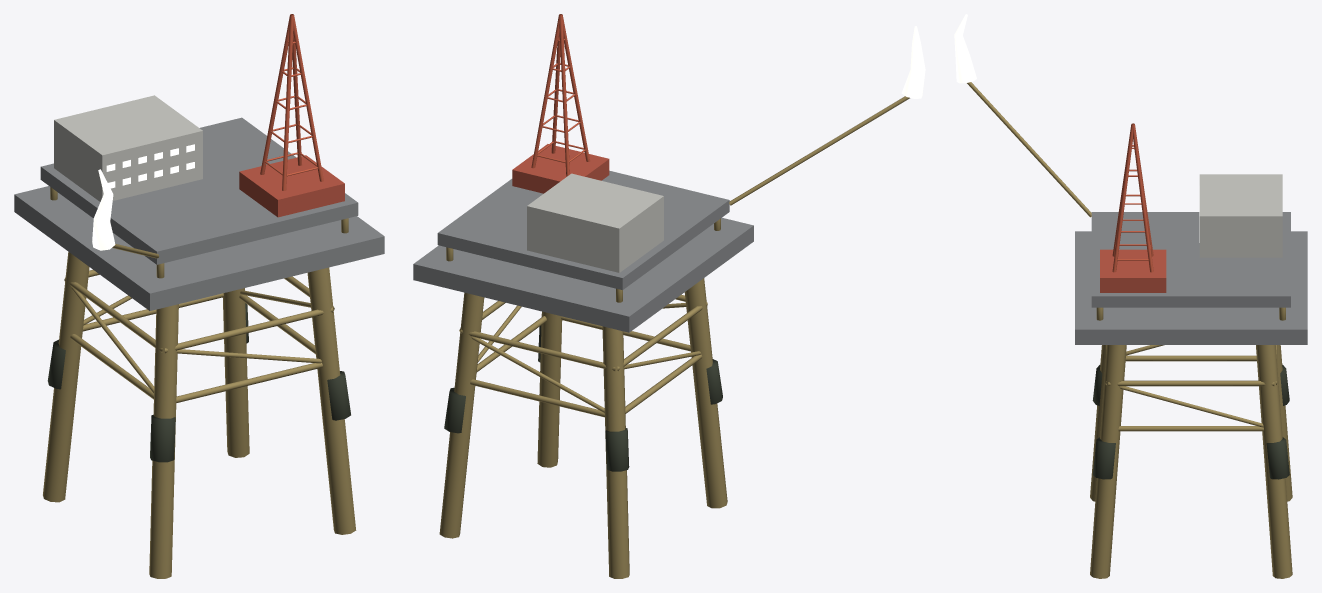
Rendered from rig.glb.
The picture shows the model from 3 angles, left to right: view 1: azimuth 30°, elevation 25°; view 2: azimuth 150°, elevation 25°; view 3: azimuth 270°, elevation 25°; orthographic projection. The views are drawn at different scales.
Parts seen in each view (by area): view 1: Rig; view 2: Rig; view 3: Rig.
Boxes of the visible parts, left/top/right/bottom form: Rig: left=14, top=14, right=384, bottom=578; Rig: left=413, top=14, right=925, bottom=578; Rig: left=954, top=14, right=1307, bottom=578.
Size of the model in its own units: 84.77 by 116 by 85.03.
